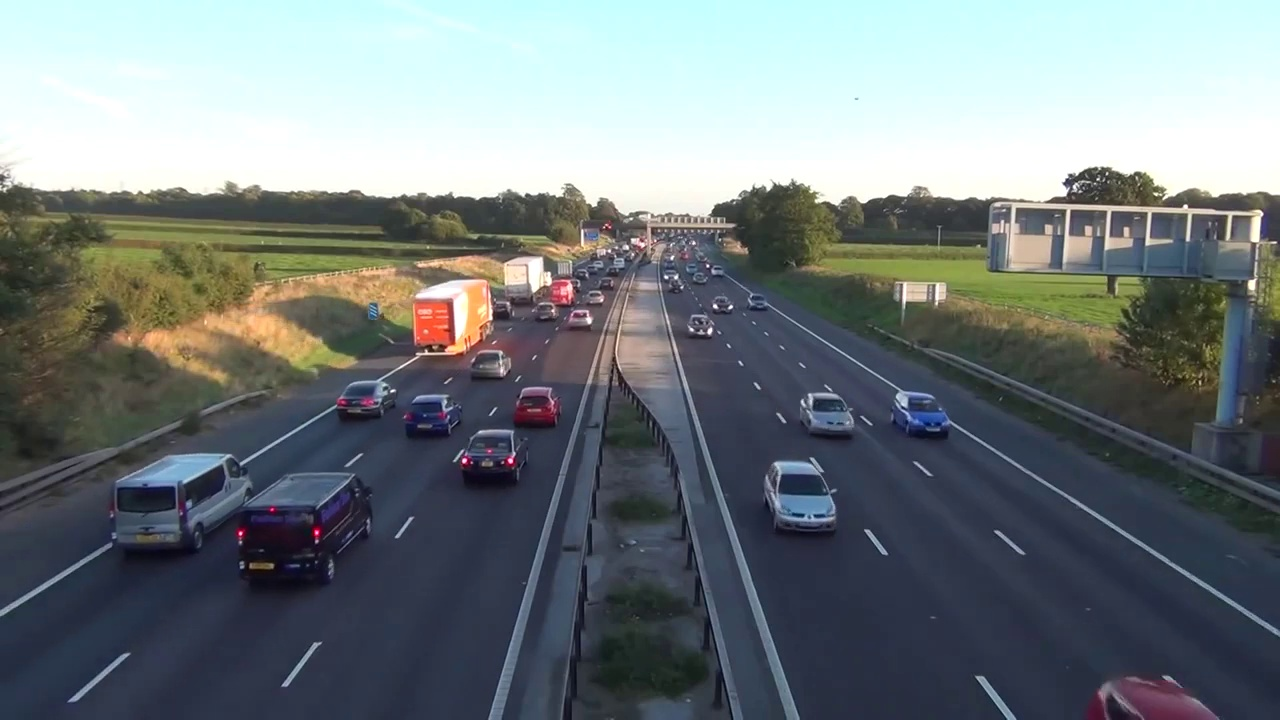bus: (1084, 668, 1219, 716), (758, 460, 840, 536), (458, 428, 529, 482), (796, 387, 858, 440), (885, 388, 952, 436), (334, 381, 400, 425), (404, 390, 464, 433), (514, 384, 564, 425), (466, 348, 518, 383), (684, 313, 715, 341), (569, 309, 596, 333), (744, 292, 770, 313), (534, 301, 559, 322), (710, 295, 735, 315), (492, 302, 516, 319), (586, 289, 605, 306), (667, 278, 686, 294), (660, 269, 680, 284), (599, 276, 616, 291), (692, 271, 708, 286), (709, 265, 725, 279), (570, 277, 583, 294), (574, 267, 589, 280), (543, 270, 552, 291), (605, 265, 619, 277), (662, 260, 677, 270), (586, 263, 599, 274), (685, 264, 697, 275), (592, 260, 606, 268)
car: (410, 278, 498, 358), (503, 255, 547, 309), (555, 258, 578, 279)
lorry: (104, 443, 260, 558), (230, 467, 383, 582), (549, 280, 576, 306), (613, 258, 625, 269)
